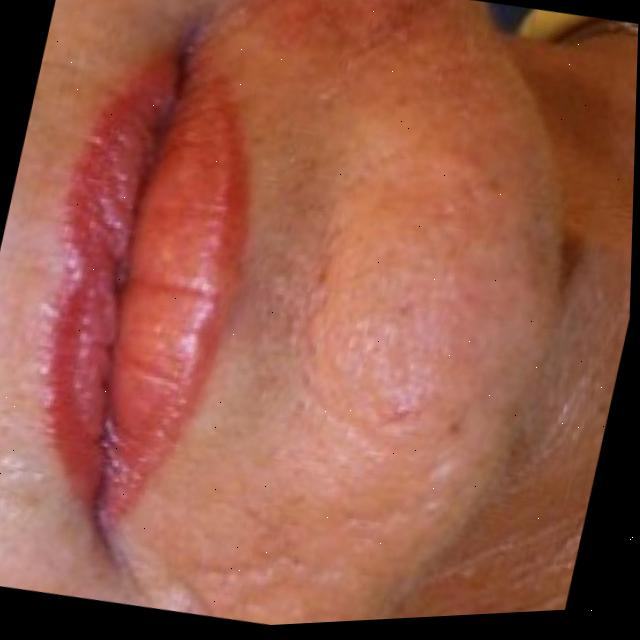Acne: (160, 0, 580, 631)
